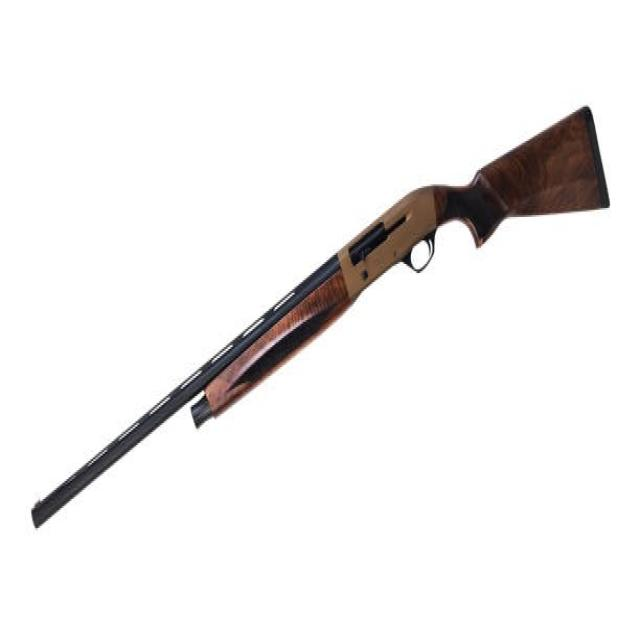rifle: (28, 92, 615, 535)
